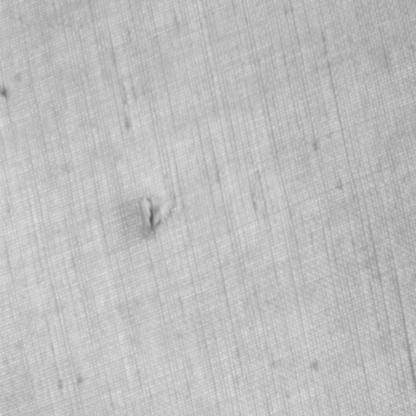objects: (136, 196, 164, 240)
